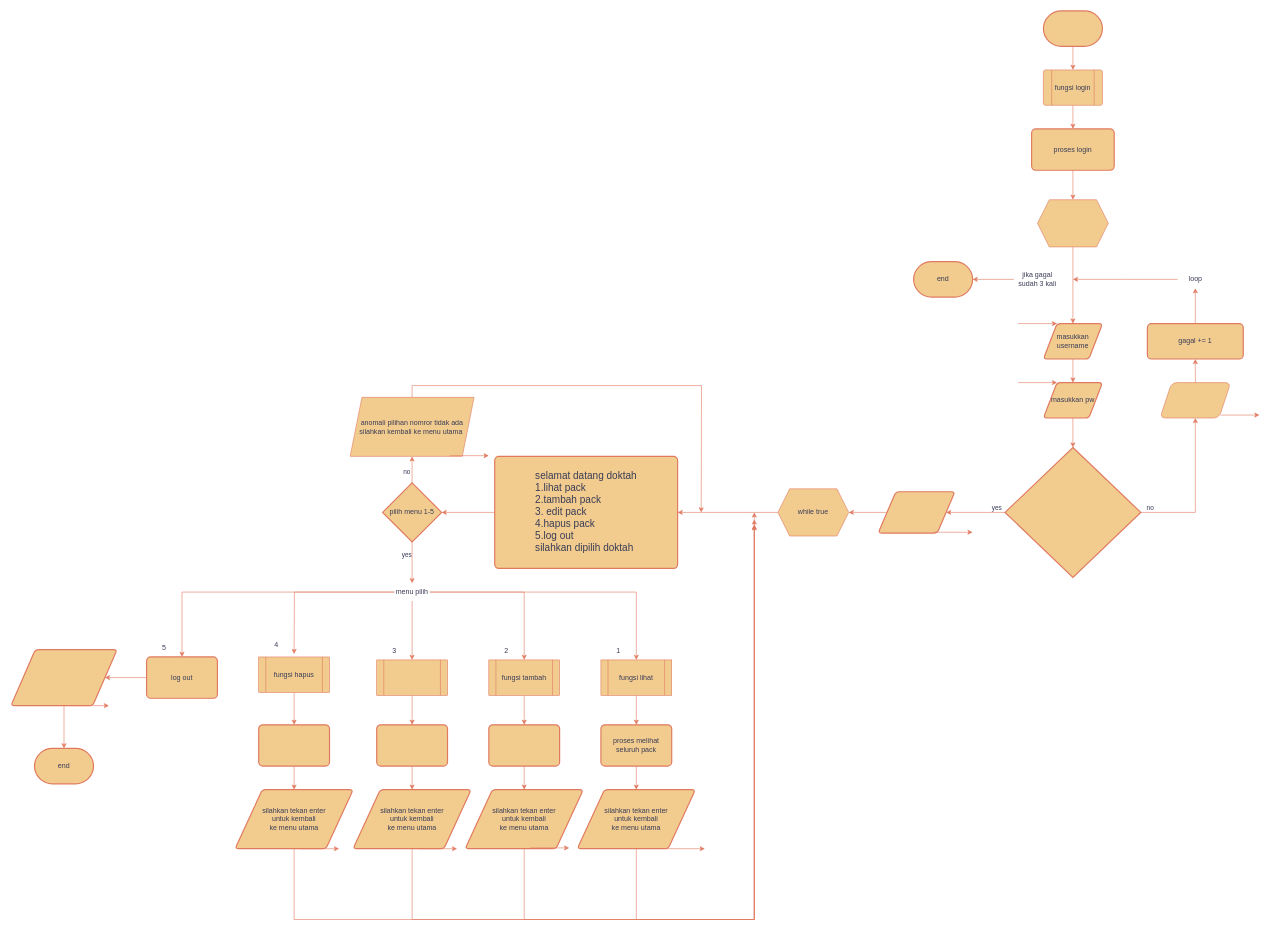
Image size: 1274x935. Some labels were removed from this diagram. The box of each missing label's shape, as (x1, y1, x2, y2) in pixels:
andatelah log out dari prts: (10, 649, 117, 706)
fungsi edit: (376, 659, 448, 695)
login berhasil: (877, 491, 955, 533)
output "anda gagal sebanyak {gagal}: (1159, 382, 1231, 418)
proses menambah pack dan harga baru: (488, 724, 560, 766)
proses mengedit pack: (376, 724, 448, 766)
proses menghapus pack: (258, 724, 330, 766)
start: (1043, 10, 1103, 47)
username == "dr.fahri" pass == "3336": (1004, 447, 1141, 578)
while salah = 3: (1037, 199, 1108, 247)
